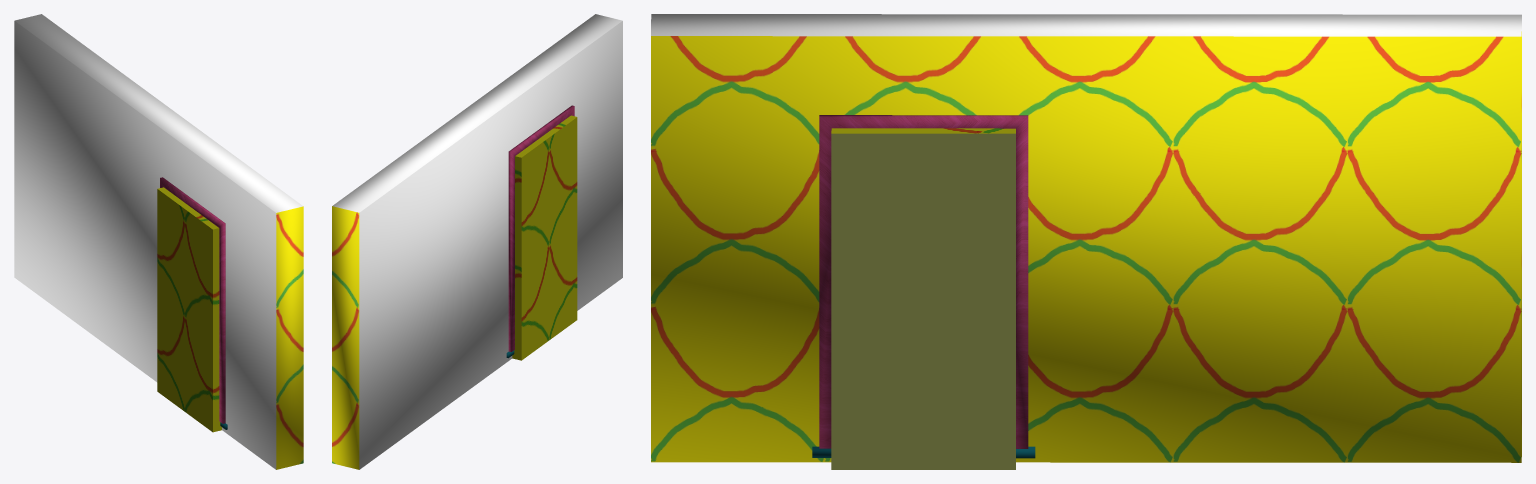
The model's file is awall2.glb.
3 renders of one model, left to right at view 1: azimuth 30°, elevation 25°; view 2: azimuth 150°, elevation 25°; view 3: azimuth 270°, elevation 25°, orthographic. The views are drawn at different scales.
Parts seen in each view (by area): view 1: Wall, hole, Door; view 2: Wall, hole, Door; view 3: Wall, hole, Door.
Boxes of the visible parts, bbox=[...] form: Wall: bbox=[14, 14, 303, 469]; hole: bbox=[157, 187, 221, 432]; Door: bbox=[160, 177, 227, 429]; Wall: bbox=[332, 14, 622, 469]; hole: bbox=[512, 115, 577, 360]; Door: bbox=[506, 105, 574, 358]; Wall: bbox=[651, 14, 1521, 462]; hole: bbox=[831, 128, 1015, 469]; Door: bbox=[812, 115, 1035, 458].
Bounding box in the file's own units: 0.502 × 2.7 × 5.
8 materials, 2 textured.
